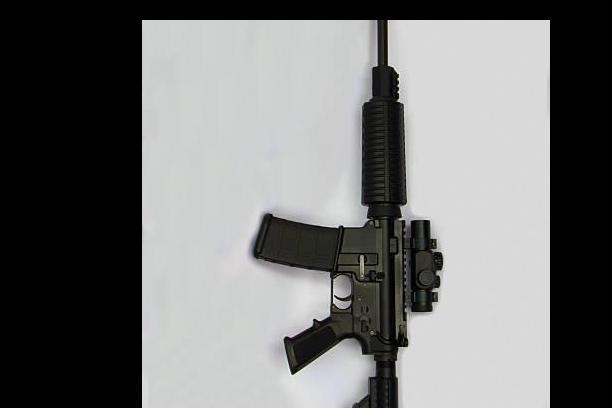larga: (253, 20, 444, 408)
